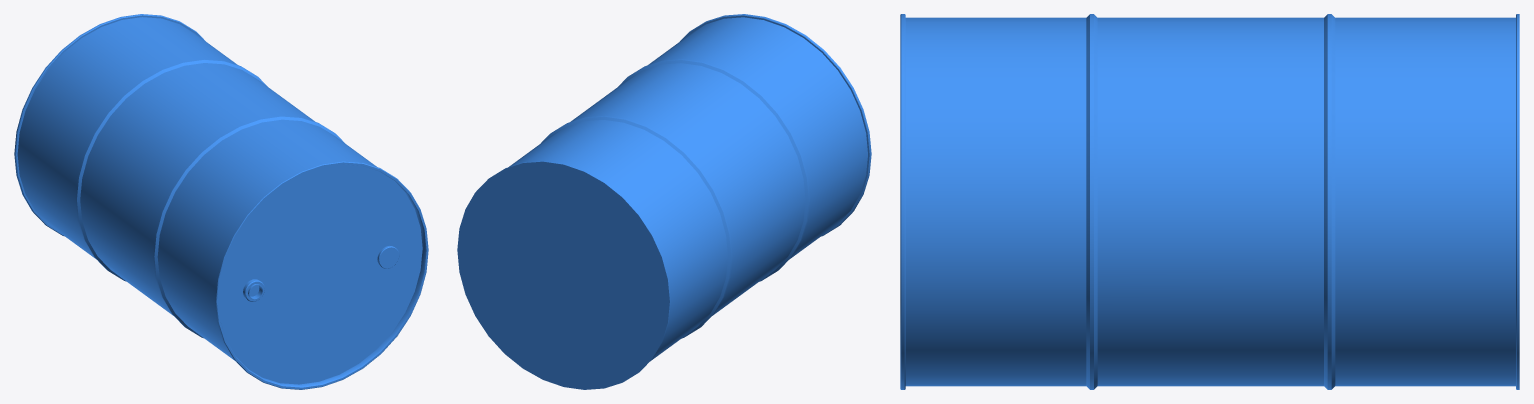
Rendered from 드럼통.glb.
3 views of the same model, side by side, from view 1: azimuth 30°, elevation 25°; view 2: azimuth 150°, elevation 25°; view 3: azimuth 270°, elevation 25° (orthographic). The views are drawn at different scales.
Visible parts, largest first — view 1: object_0; view 2: object_0; view 3: object_0.
Part boxes in pixels (<box>): object_0: <box>14,14,428,389</box>; object_0: <box>457,14,871,389</box>; object_0: <box>900,14,1519,389</box>.
Bounding box in the file's own units: 1.22 × 1.22 × 2.
